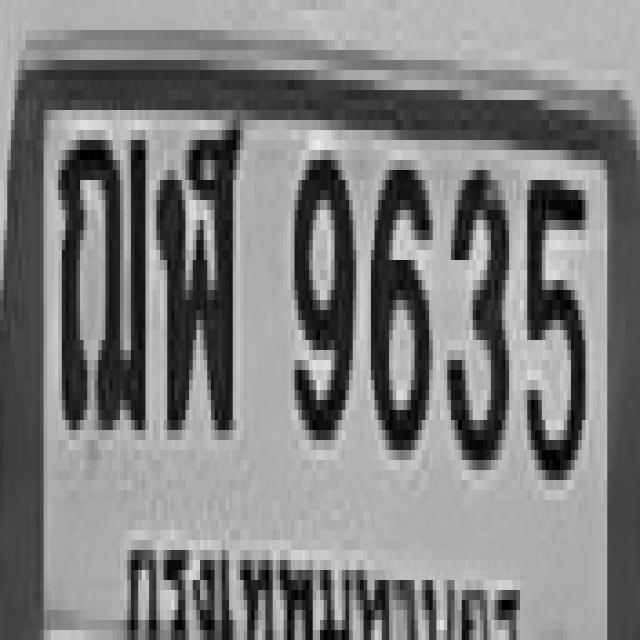21ChorChoe: (54, 115, 146, 425)
3: (444, 160, 506, 460)
5: (524, 165, 582, 465)
51LorChula: (156, 105, 240, 425)
6: (366, 150, 428, 440)
9: (289, 140, 351, 430)
